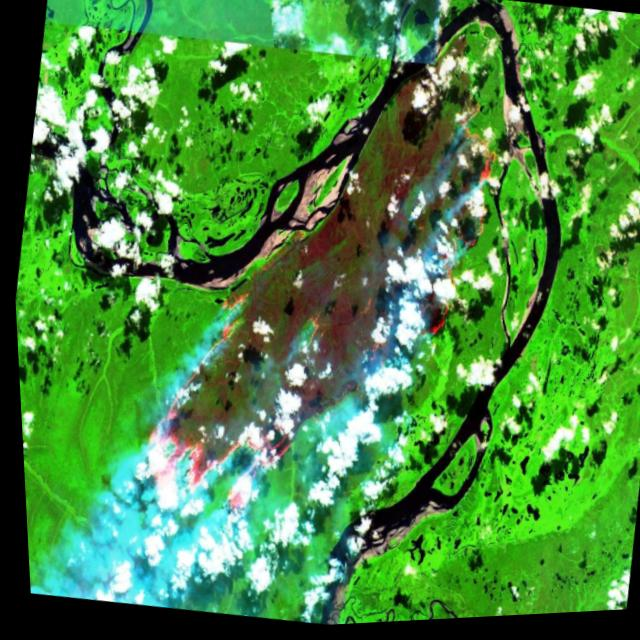fire: (118, 256, 326, 547), (378, 82, 525, 379)
